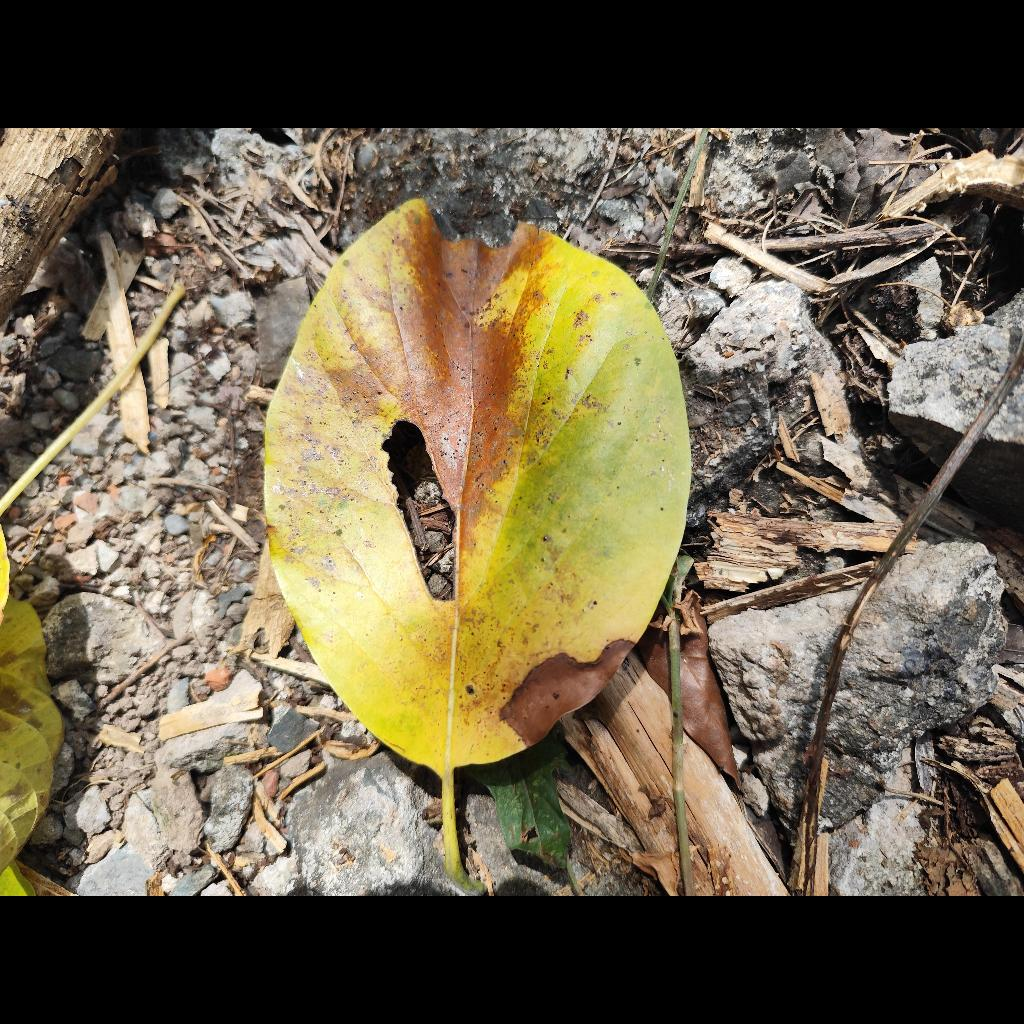nutrient_deficiency: (266, 201, 690, 778)
